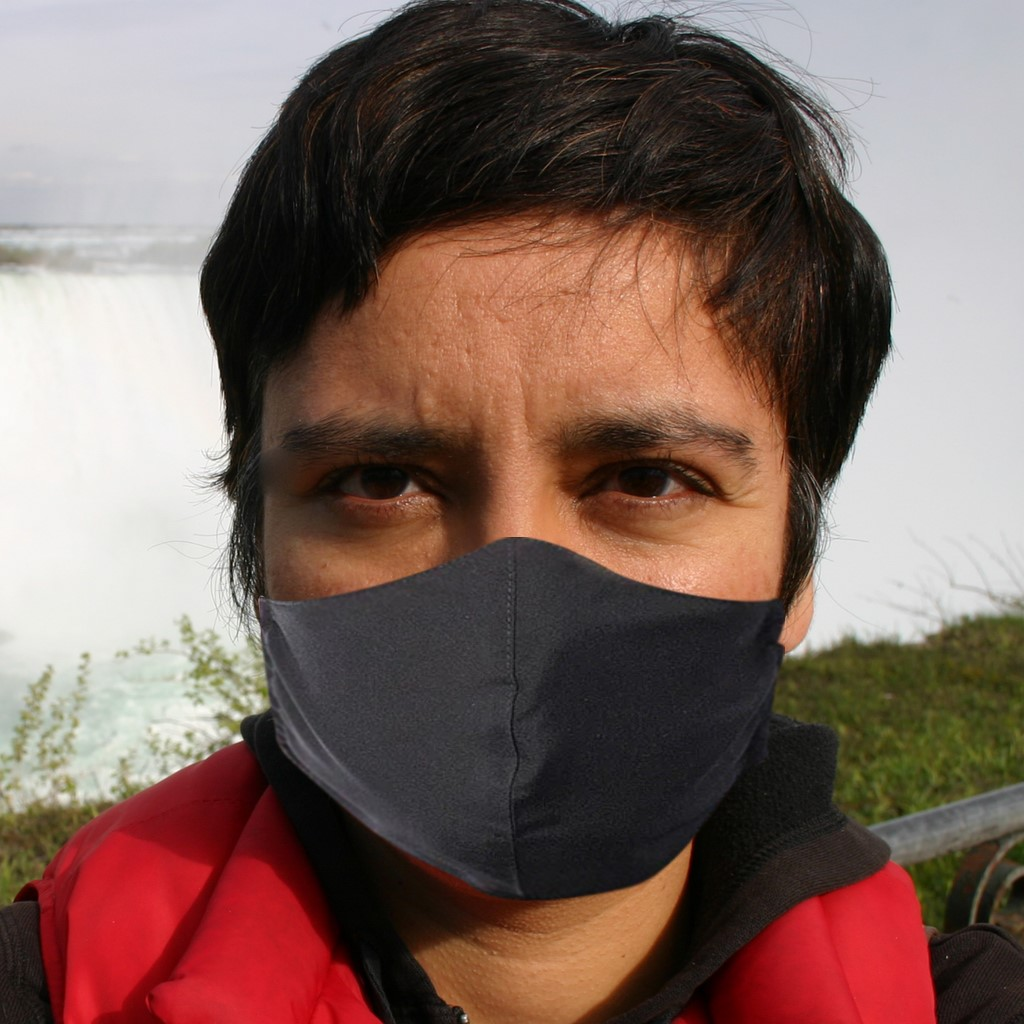con_mascara: (224, 187, 824, 896)
